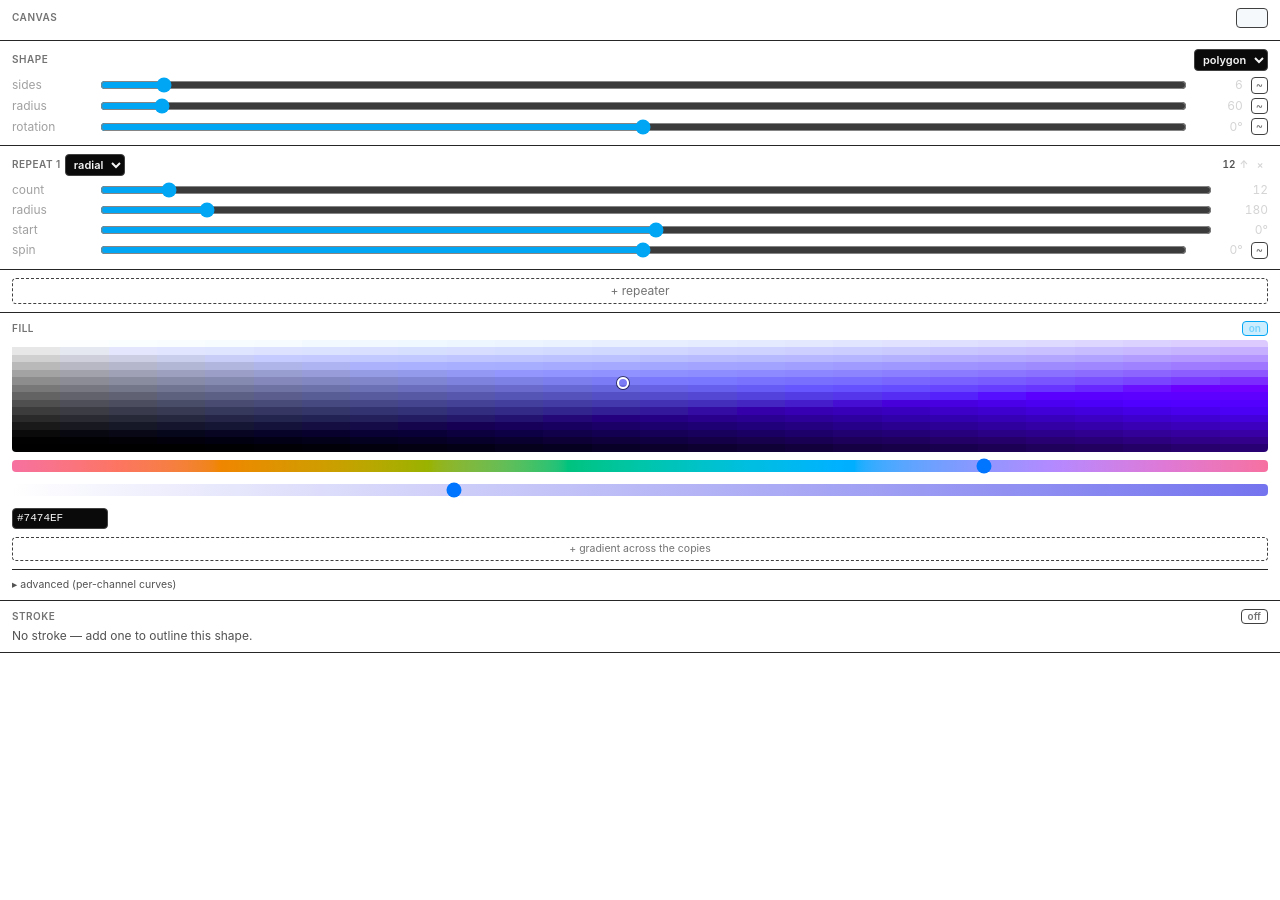
Test case: Inspector › turns fill off, clearing it from the document
Step 1. Click the button with aria-label "Toggle fill" → (1255, 328), box [1242,321,1268,336]
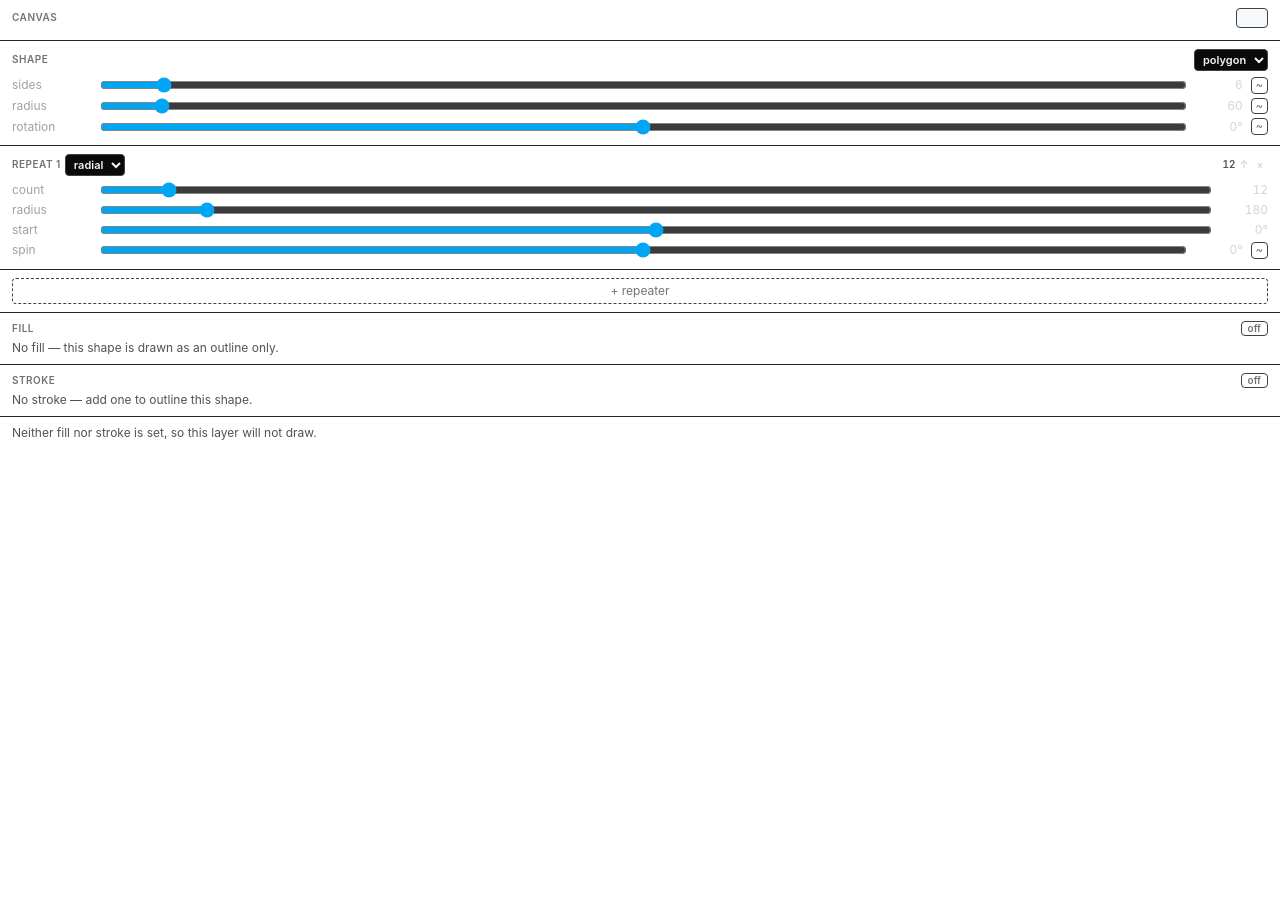
Check: the element with test id "card-fill" shows "No fill", box [12,340,279,355]
